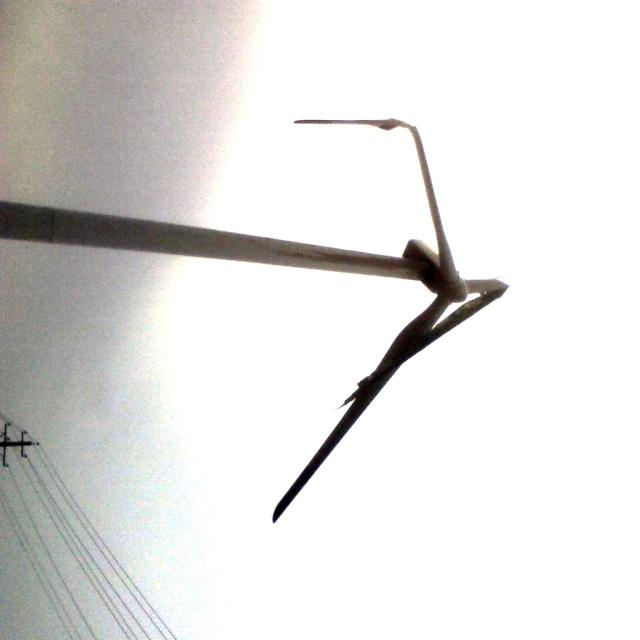crack: (330, 270, 520, 414), (288, 106, 436, 153)
